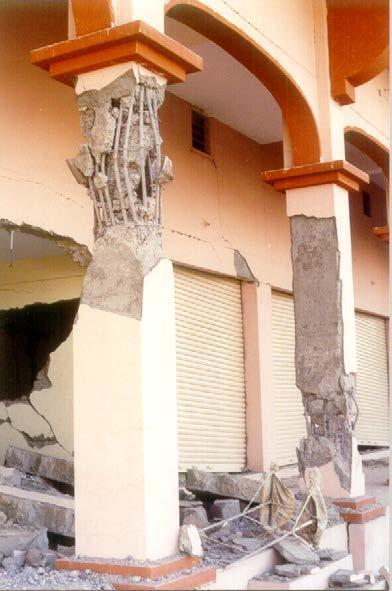spalling: (68, 65, 172, 318), (290, 215, 356, 489)
